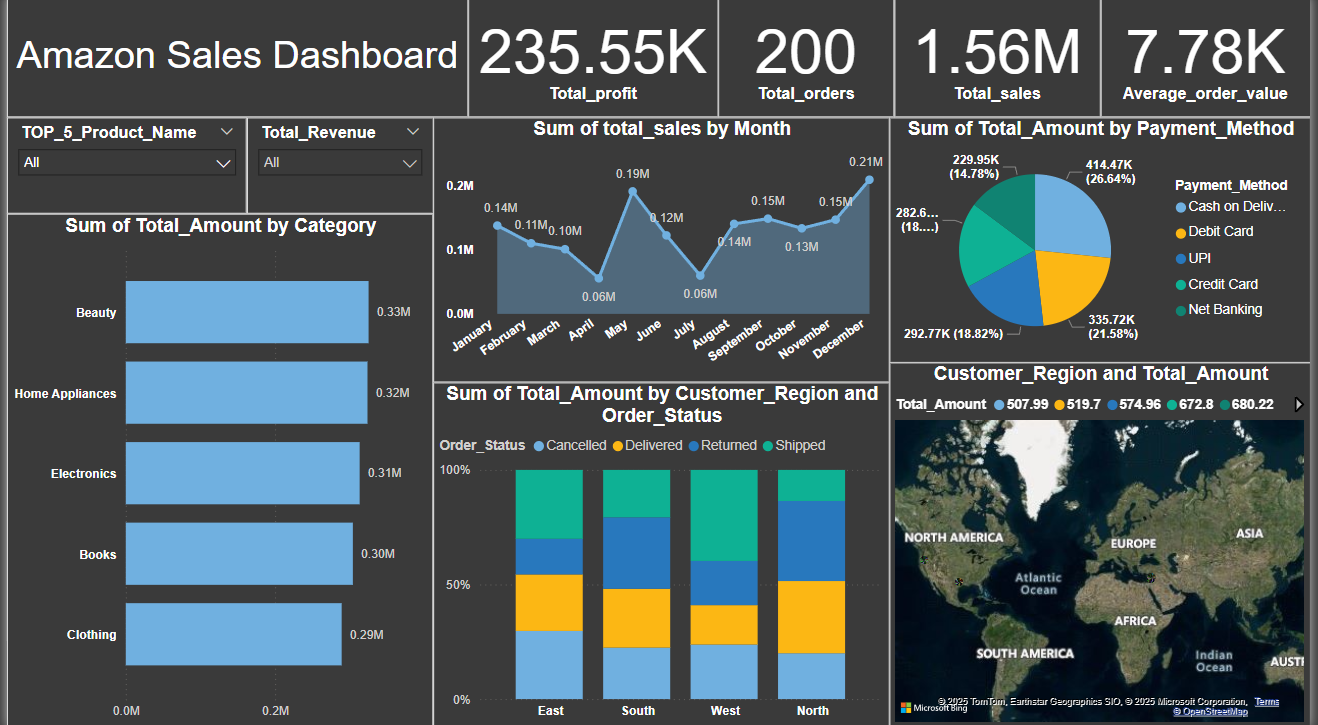

The dashboard page shown, as its layout file describes it:
{"tool":"powerbi","page":{"name":"Page 1","canvas":[1280,720],"ordinal":0},"visuals":[{"type":"card","fields":{"Values":["amazon_orders.M_Total_sales"]},"box":[871.2,0,202.5,120.2],"z":0},{"type":"card","fields":{"Values":["amazon_orders.M_Total_orders"]},"box":[698.2,0,173,120.2],"z":1000},{"type":"card","fields":{"Values":["amazon_orders.M_Total_profit"]},"box":[452.8,0,245.4,120.2],"z":2000},{"type":"card","fields":{"Values":["amazon_orders.M_AOV"]},"box":[1073.6,0,206.1,120.2],"z":3000},{"type":"clusteredBarChart","fields":{"Category":["amazon_orders.Category"],"Y":["Sum(amazon_orders.Total_Amount)"]},"box":[0,214.7,418.4,505.5],"z":4000},{"type":"lineChart","fields":{"Category":["monthly_sales.month.Variation.Date Hierarchy.Month"],"Y":["Sum(monthly_sales.total_sales)"]},"box":[418.4,120.2,447.9,260.1],"z":5000},{"type":"pieChart","fields":{"Category":["amazon_orders.Payment_Method"],"Y":["Sum(amazon_orders.Total_Amount)"]},"box":[866.3,120.2,413.5,240.5],"z":6000},{"type":"hundredPercentStackedColumnChart","fields":{"Category":["profit_by_region.Customer_Region"],"Series":["amazon_orders.Order_Status"],"Y":["Sum(amazon_orders.Total_Amount)"]},"box":[418.4,380.4,447.9,339.9],"z":7000},{"type":"map","fields":{"Category":["amazon_orders.Customer_Region"],"Series":["amazon_orders.Total_Amount"]},"box":[866.3,360.7,413.5,359.5],"z":8000},{"type":"textbox","box":[0,0,452.8,120.2],"z":9000},{"type":"slicer","fields":{"Values":["top_5_products.Product_Name"]},"box":[0,120.2,235.6,94.5],"z":10000},{"type":"slicer","fields":{"Values":["top_5_products.Total_Revenue"]},"box":[235.6,120.2,182.8,94.5],"z":11000}]}

Visuals, with their boxes in screenshot pixels (x1, y1, x2, y2), scaled from the page's 1280x720 canvas onto the 1318x725 screenshot:
card - amazon_orders.M_Total_sales: {"x1": 897, "y1": 0, "x2": 1106, "y2": 121}
card - amazon_orders.M_Total_orders: {"x1": 719, "y1": 0, "x2": 897, "y2": 121}
card - amazon_orders.M_Total_profit: {"x1": 466, "y1": 0, "x2": 719, "y2": 121}
card - amazon_orders.M_AOV: {"x1": 1105, "y1": 0, "x2": 1317, "y2": 121}
clusteredBarChart - amazon_orders.Category x Sum(amazon_orders.Total_Amount): {"x1": 0, "y1": 216, "x2": 431, "y2": 724}
lineChart - monthly_sales.month.Variation.Date Hierarchy.Month x Sum(monthly_sales.total_sales): {"x1": 431, "y1": 121, "x2": 892, "y2": 383}
pieChart - amazon_orders.Payment_Method x Sum(amazon_orders.Total_Amount): {"x1": 892, "y1": 121, "x2": 1317, "y2": 363}
hundredPercentStackedColumnChart - profit_by_region.Customer_Region x amazon_orders.Order_Status: {"x1": 431, "y1": 383, "x2": 892, "y2": 724}
map - amazon_orders.Customer_Region x amazon_orders.Total_Amount: {"x1": 892, "y1": 363, "x2": 1317, "y2": 724}
textbox: {"x1": 0, "y1": 0, "x2": 466, "y2": 121}
slicer - top_5_products.Product_Name: {"x1": 0, "y1": 121, "x2": 243, "y2": 216}
slicer - top_5_products.Total_Revenue: {"x1": 243, "y1": 121, "x2": 431, "y2": 216}
